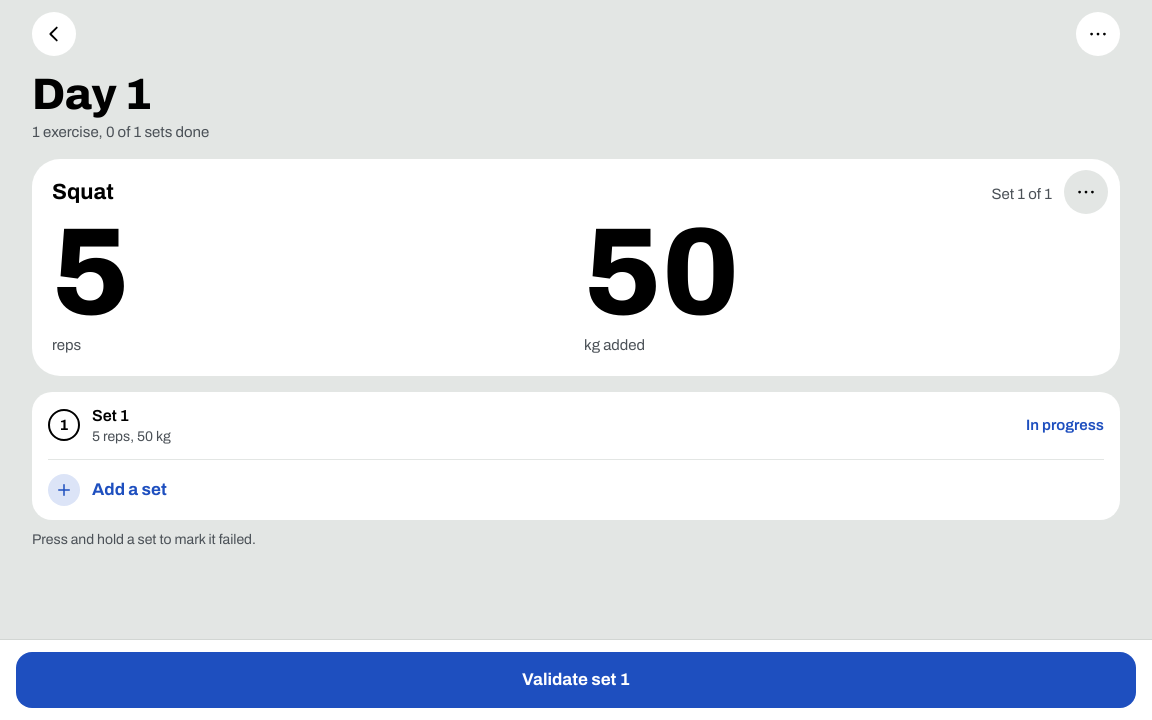
Test: SessionView › a write that waits for a network does not hold its button › …in the « ⋯ » of the title as in the ActionBar, whichever carries it
Step 1. Click the button named "Session options" → (1098, 34), box [1076, 12, 1120, 56]
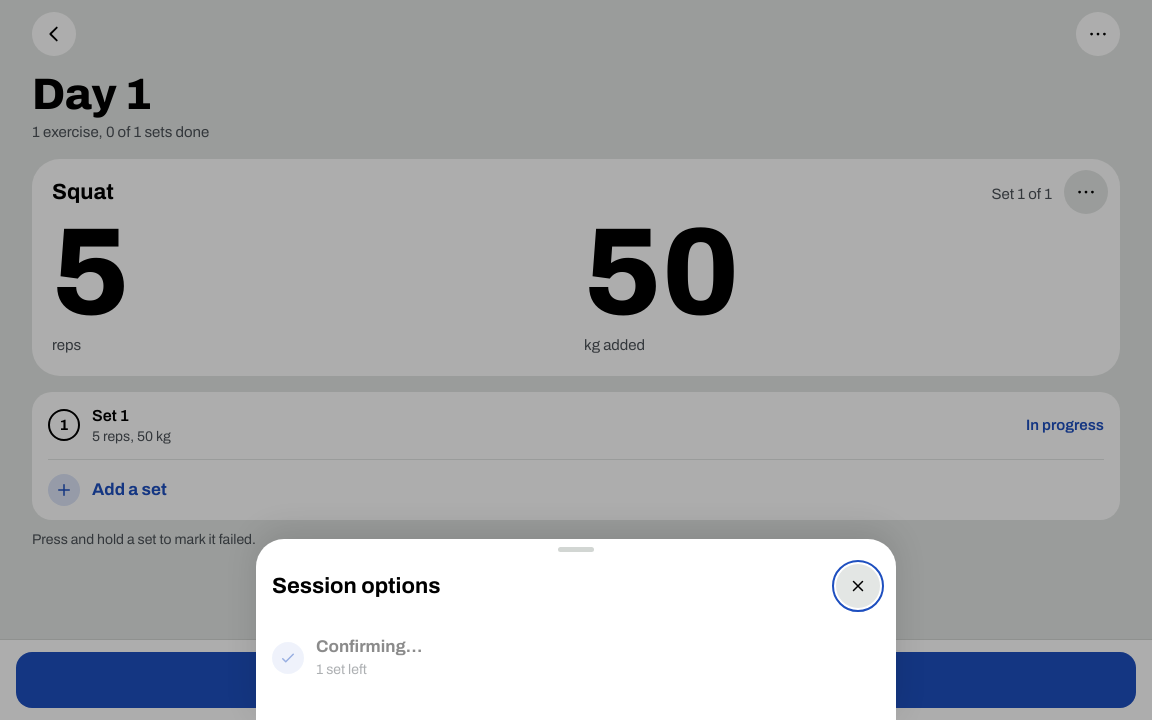
Now the button "Confirming… 1 set left" is disabled, box [272, 624, 880, 692]
